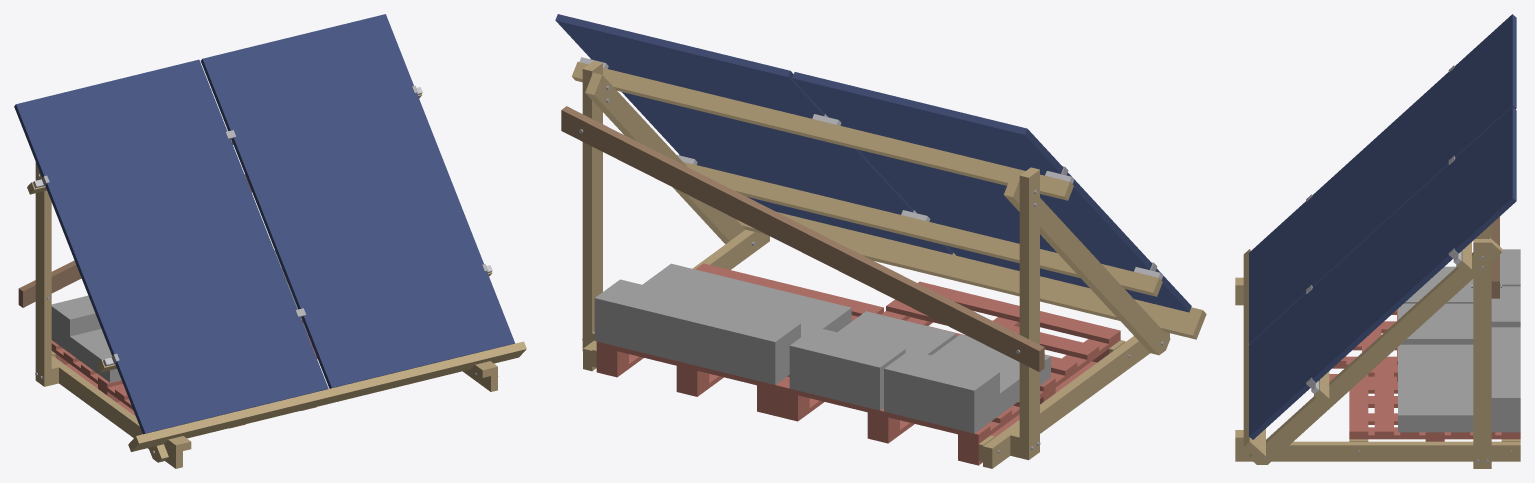
File: solar_ground_mount_v4.glb
3 renders of one model, left to right at view 1: azimuth 30°, elevation 25°; view 2: azimuth 150°, elevation 25°; view 3: azimuth 270°, elevation 25°, orthographic. The views are drawn at different scales.
Parts seen in each view (by area): view 1: L panel#panel_1, L panel#panel_2, M bottom ledge#bottom_ledge, C prop#prop_L, A base beam#base_beam_L, ballast#ballast_12, F rear diagonal#rear_diagonal_150x40, ballast#ballast_04, G big pallet#pallet_big_stringer_0, ballast#ballast_08; view 2: L panel#panel_2, L panel#panel_1, F rear diagonal#rear_diagonal_150x40, E cross rail#cross_rail_2, M bottom ledge#bottom_ledge, E cross rail#cross_rail_1, C prop#prop_L, B sloping rail#sloping_rail_L, ballast#ballast_12, ballast#ballast_14, C prop#prop_R, ballast#ballast_13 (+19 smaller); view 3: L panel#panel_2, L panel#panel_1, B sloping rail#sloping_rail_R, A base beam#base_beam_R, C prop#prop_R, ballast#ballast_11, ballast#ballast_07, ballast#ballast_15, M bottom ledge#bottom_ledge, ballast#ballast_05, ballast#ballast_10, H small pallet#pallet_small_deck_1 (+13 smaller).
Boxes of the visible parts, left/top/right/bottom form: L panel#panel_1: left=14, top=59, right=328, bottom=434; L panel#panel_2: left=200, top=14, right=514, bottom=388; M bottom ledge#bottom_ledge: left=128, top=341, right=526, bottom=451; C prop#prop_L: left=35, top=162, right=51, bottom=386; A base beam#base_beam_L: left=51, top=355, right=182, bottom=468; ballast#ballast_12: left=51, top=295, right=101, bottom=336; F rear diagonal#rear_diagonal_150x40: left=18, top=174, right=251, bottom=307; ballast#ballast_04: left=70, top=329, right=108, bottom=367; G big pallet#pallet_big_stringer_0: left=51, top=347, right=133, bottom=410; ballast#ballast_08: left=90, top=346, right=121, bottom=382; L panel#panel_2: left=555, top=14, right=953, bottom=254; L panel#panel_1: left=792, top=72, right=1191, bottom=312; F rear diagonal#rear_diagonal_150x40: left=561, top=106, right=1044, bottom=371; E cross rail#cross_rail_2: left=572, top=61, right=1073, bottom=200; M bottom ledge#bottom_ledge: left=736, top=212, right=1206, bottom=339; E cross rail#cross_rail_1: left=683, top=162, right=1162, bottom=296; C prop#prop_L: left=1019, top=167, right=1039, bottom=460; B sloping rail#sloping_rail_L: left=1004, top=175, right=1170, bottom=355; ballast#ballast_12: left=884, top=350, right=999, bottom=411; ballast#ballast_14: left=685, top=301, right=800, bottom=363; C prop#prop_R: left=582, top=61, right=602, bottom=350; ballast#ballast_13: left=789, top=327, right=905, bottom=388; L panel#panel_2: left=1249, top=107, right=1516, bottom=439; L panel#panel_1: left=1249, top=14, right=1516, bottom=344; B sloping rail#sloping_rail_R: left=1249, top=237, right=1502, bottom=464; A base beam#base_beam_R: left=1235, top=441, right=1520, bottom=461; C prop#prop_R: left=1473, top=239, right=1491, bottom=468; ballast#ballast_11: left=1398, top=380, right=1438, bottom=432; ballast#ballast_07: left=1438, top=380, right=1473, bottom=432; ballast#ballast_15: left=1491, top=362, right=1520, bottom=415; M bottom ledge#bottom_ledge: left=1243, top=249, right=1265, bottom=461; ballast#ballast_05: left=1438, top=303, right=1473, bottom=344; ballast#ballast_10: left=1398, top=344, right=1438, bottom=379; H small pallet#pallet_small_deck_1: left=1374, top=361, right=1393, bottom=435.
Bounding box in the file's own units: 2.4 × 1.6 × 1.5.
